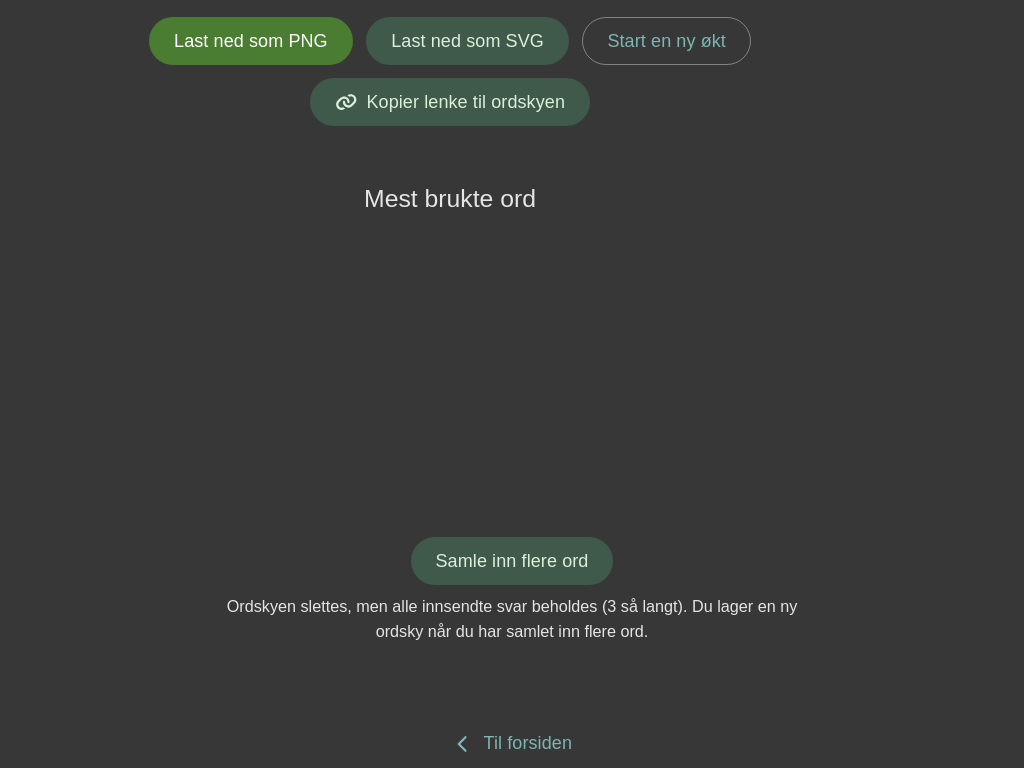
it: CollectPage › given a session where the cloud is already made › when the admin clicks collect more words and the server fails, then the error shows the status code
(page scrolled)
Click the button "Samle inn flere ord".
click(512, 561)  # box [410,537,614,585]
(page scrolled)
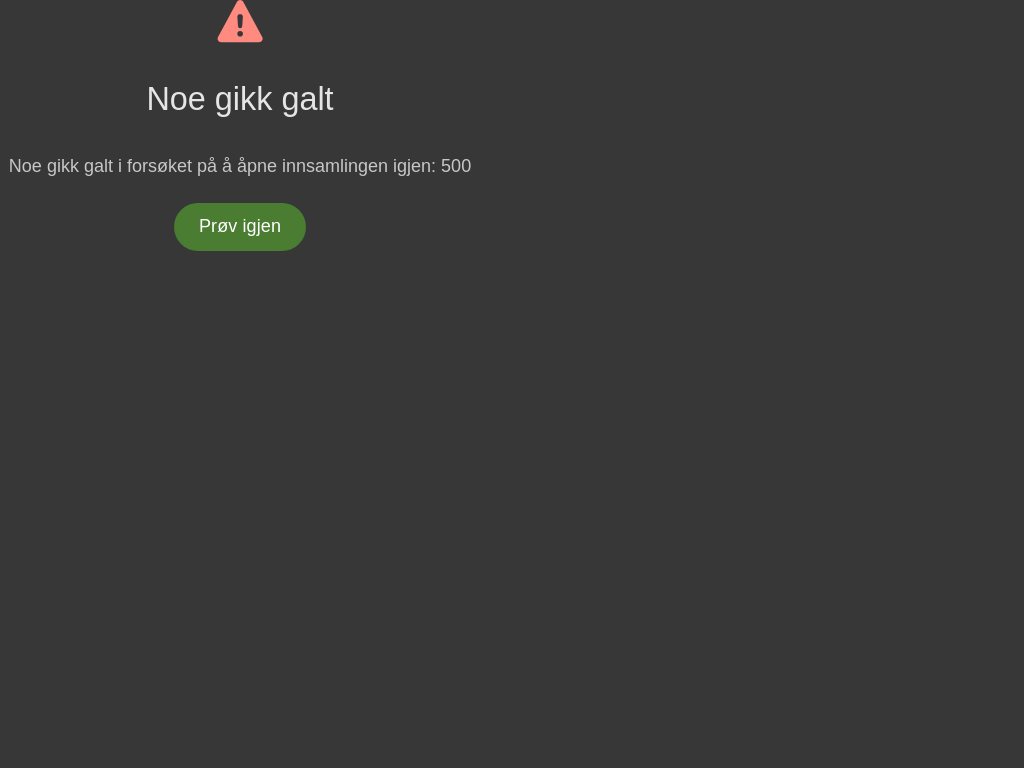
Check: the text "Noe gikk galt i forsøket på å åpne innsamlingen igjen: 500" is shown, box [9,153,471,180]
